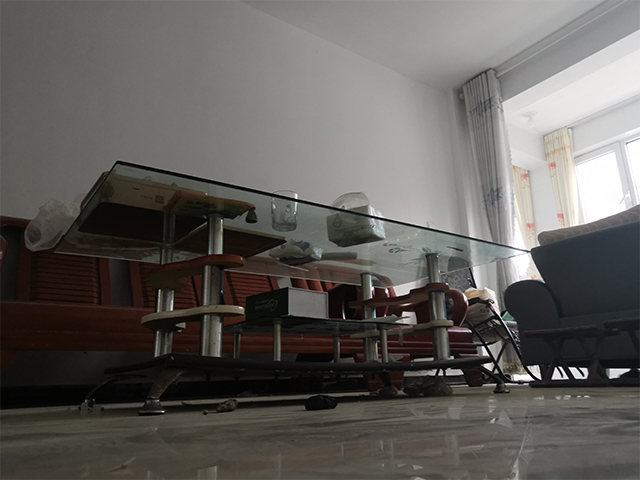feces: (299, 393, 340, 411), (213, 398, 238, 414)
sofa: (502, 202, 640, 385), (1, 255, 105, 402)
stool: (423, 249, 540, 384), (520, 318, 640, 390)
table: (51, 157, 536, 418)
